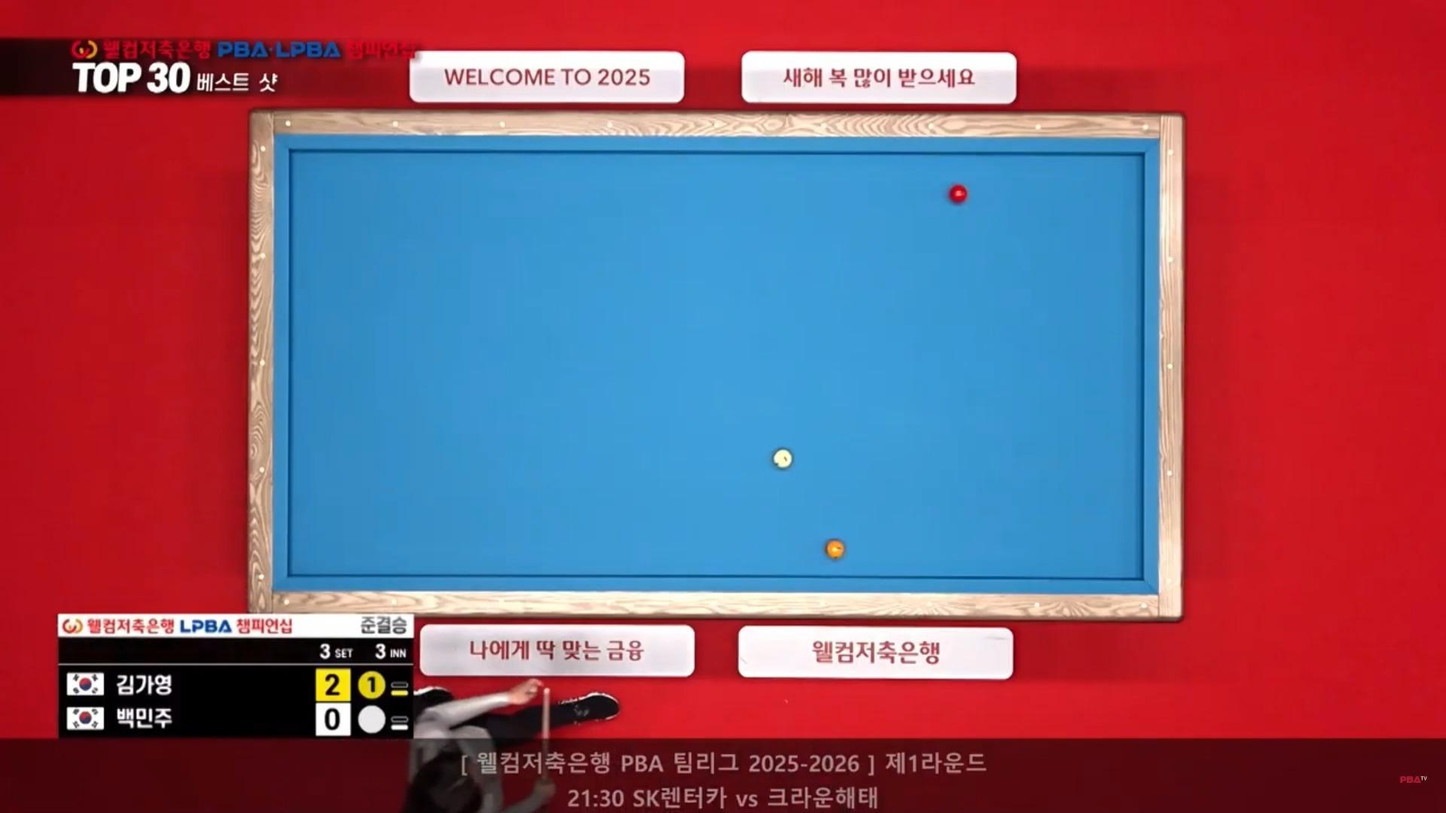Red: (947, 184, 970, 202)
White: (773, 449, 796, 469)
billiard-ball-Yellow: (826, 537, 848, 561)
